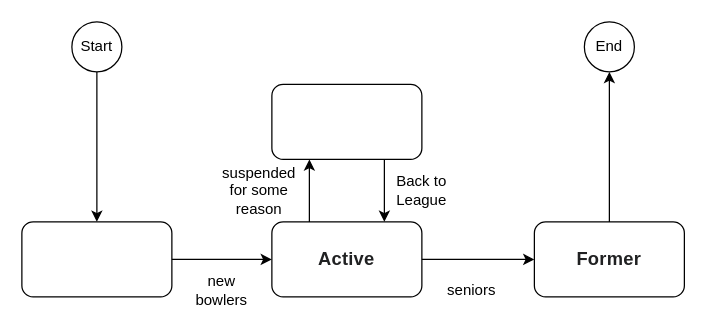
This 706x331 diagram has some shape labels left out. The shapes that lost their labels are listed below. From the top down, each one's centre as x and y in pixels, then its label:
At [346,121]: "Suspended".
At [96,259]: "Potential".
